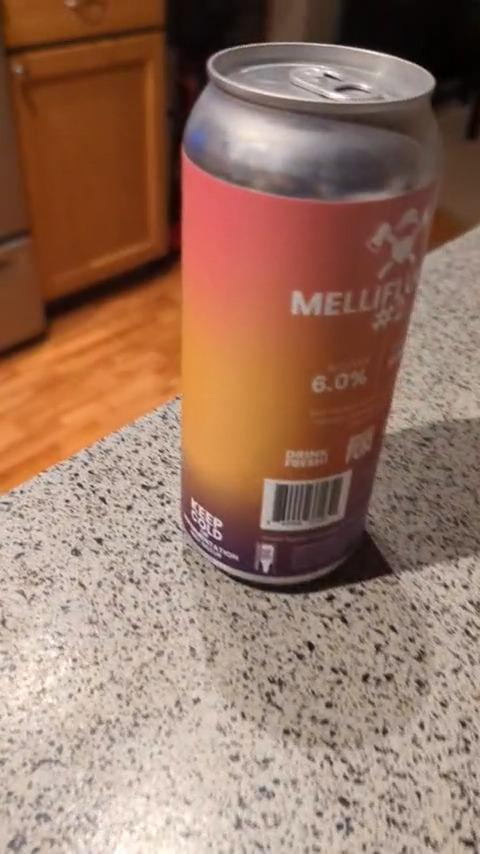metal: (182, 42, 440, 583)
